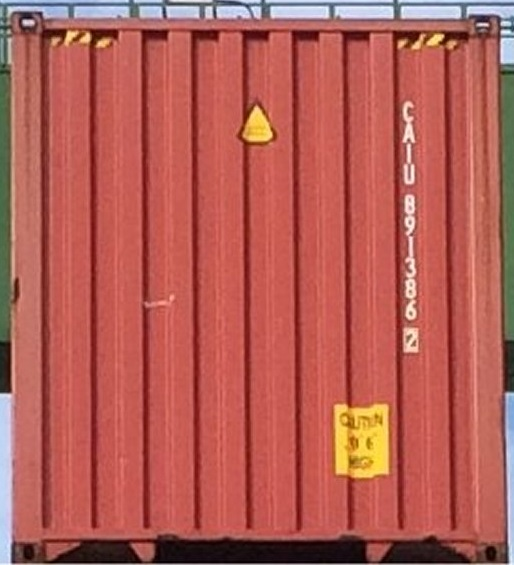container_no_door: (11, 12, 505, 564)
